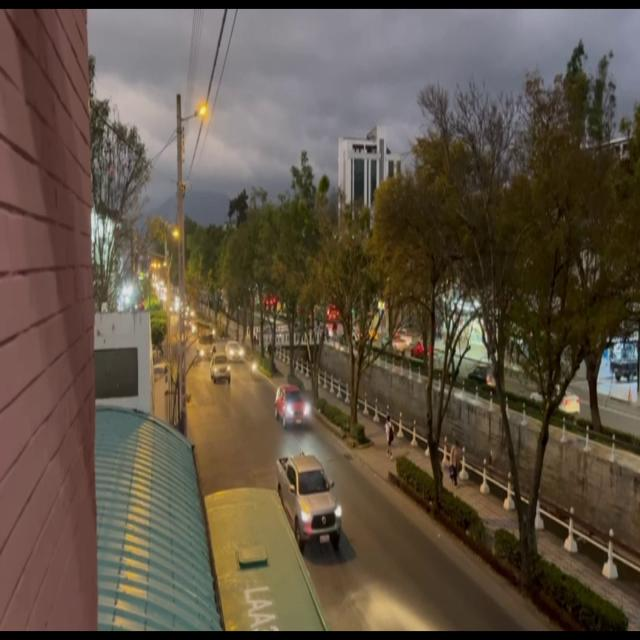CMT: (277, 458, 336, 544)
SUV: (277, 388, 305, 427)
